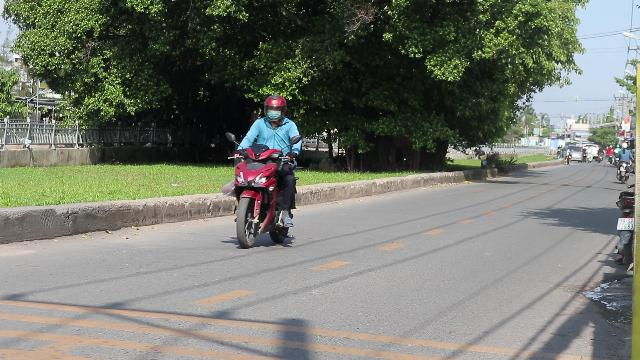helmet: (262, 96, 286, 120)
licenseplate: (616, 216, 634, 230)
motorcyclist: (221, 95, 305, 249)
